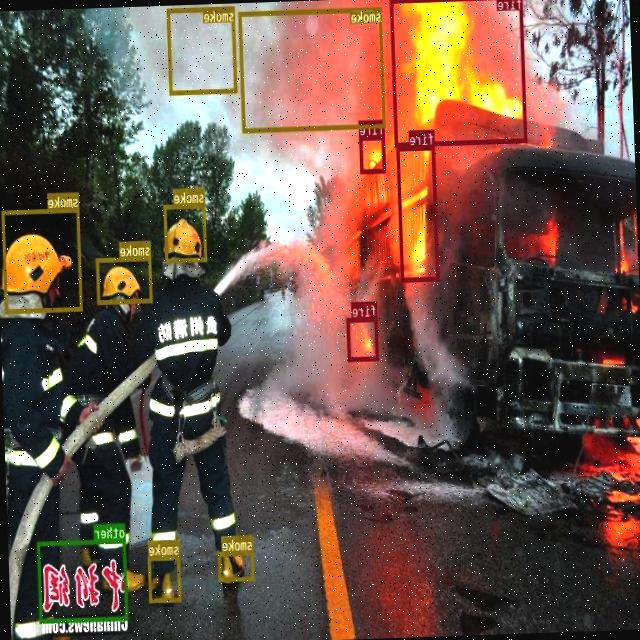fire: (390, 0, 527, 145), (397, 145, 440, 281), (346, 316, 379, 360), (359, 134, 386, 172)
smoke: (239, 5, 386, 132), (1, 207, 83, 312), (167, 5, 237, 94), (95, 256, 154, 304), (164, 202, 208, 262), (148, 554, 182, 601), (218, 550, 255, 580)
